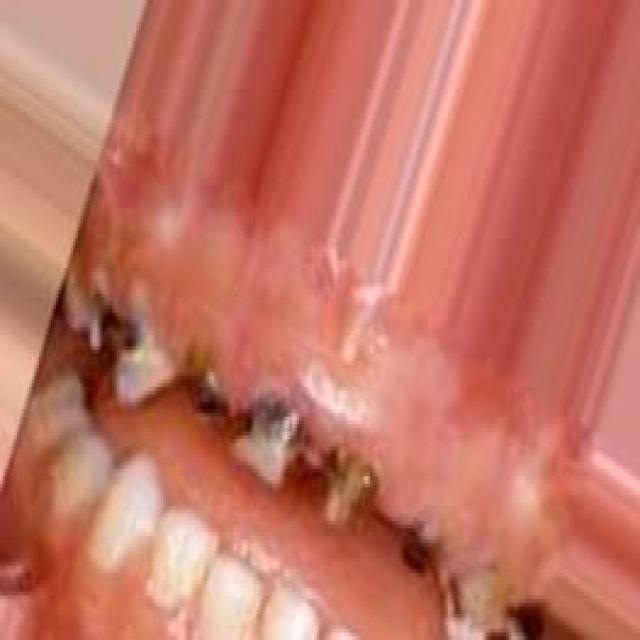caries: (162, 324, 235, 443), (231, 378, 300, 496), (86, 280, 150, 404), (319, 440, 380, 540), (461, 559, 533, 640), (400, 496, 456, 599)
